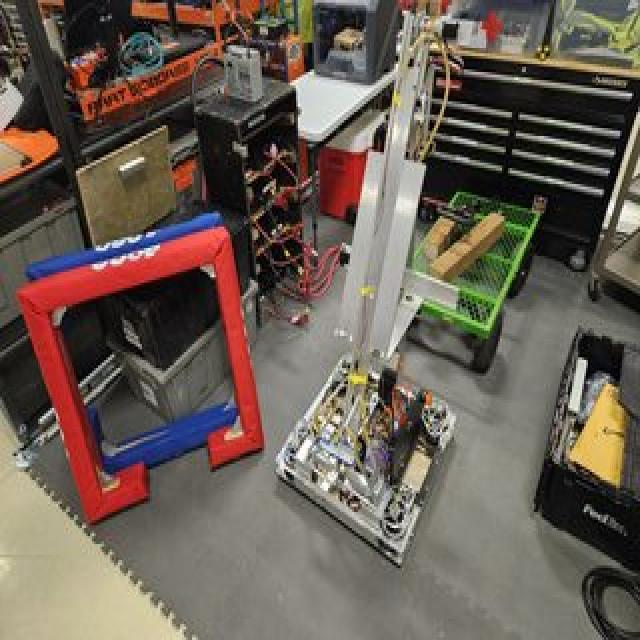robot: (263, 17, 468, 570)
